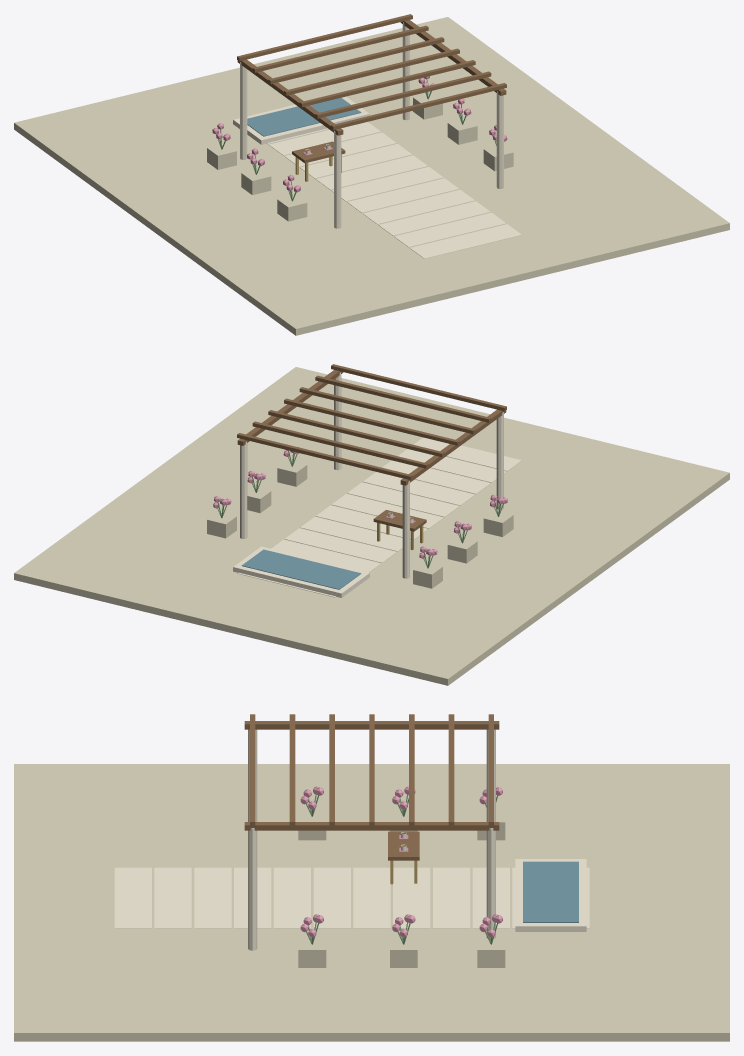
Rendered from courtyard.glb.
The picture shows the model from 3 angles, top to bottom: view 1: azimuth 30°, elevation 25°; view 2: azimuth 150°, elevation 25°; view 3: azimuth 270°, elevation 25°; orthographic projection. The views are drawn at different scales.
Visible parts, largest first — view 1: Outing_stone, Outing_ivory, Outing_wood, Outing_water, Outing_pink; view 2: Outing_stone, Outing_ivory, Outing_wood, Outing_water, Outing_pink; view 3: Outing_stone, Outing_ivory, Outing_wood, Outing_water, Outing_pink.
Part boxes in pixels (bbox=[...]): Outing_stone: bbox=[14, 17, 729, 335]; Outing_ivory: bbox=[233, 22, 521, 258]; Outing_wood: bbox=[237, 14, 506, 163]; Outing_water: bbox=[247, 97, 361, 136]; Outing_pink: bbox=[212, 76, 507, 192]; Outing_stone: bbox=[14, 367, 729, 685]; Outing_ivory: bbox=[233, 372, 521, 597]; Outing_wood: bbox=[237, 364, 506, 531]; Outing_water: bbox=[241, 549, 361, 589]; Outing_pink: bbox=[213, 444, 507, 558]; Outing_stone: bbox=[14, 764, 729, 1041]; Outing_ivory: bbox=[114, 729, 589, 950]; Outing_wood: bbox=[244, 714, 499, 860]; Outing_water: bbox=[523, 861, 578, 922]; Outing_pink: bbox=[300, 786, 502, 937].
Size of the model in its own units: 16 by 3.85 by 18.
